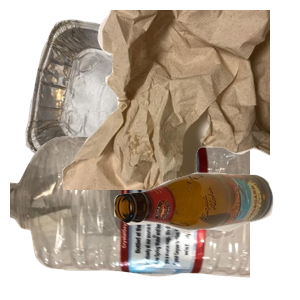glass: (111, 170, 300, 300)
metal: (23, 17, 236, 197)
plastic: (10, 134, 250, 300)
trash: (60, 10, 300, 190)
